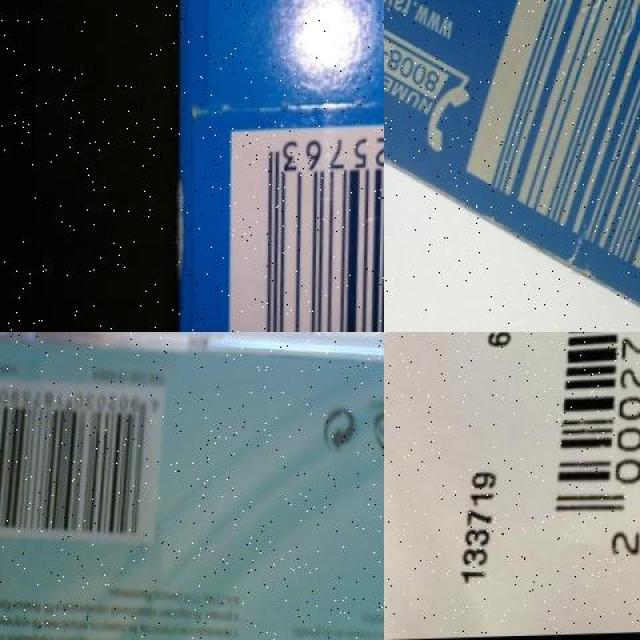Barcode: (461, 0, 640, 332), (516, 332, 640, 597), (232, 125, 384, 332), (0, 372, 168, 549)
